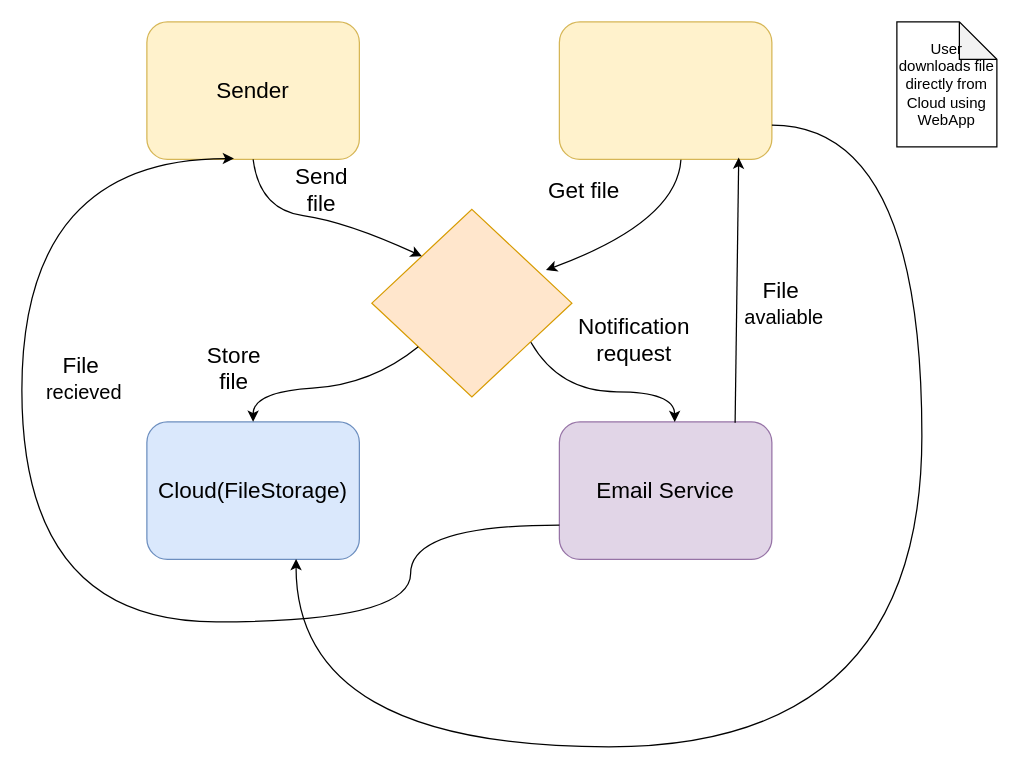
The diagram is 1019 pixels wide and 769 high, and some of its shapes have lost their labels. Each missing label, with the box of its shape:
File Transfer Service: (371, 208, 572, 397)
Recepient: (558, 21, 772, 159)
